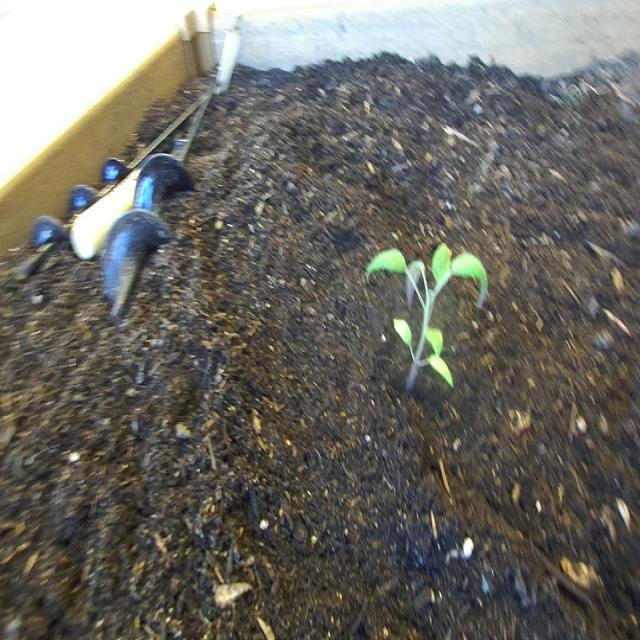Healthy: (361, 220, 493, 409)
